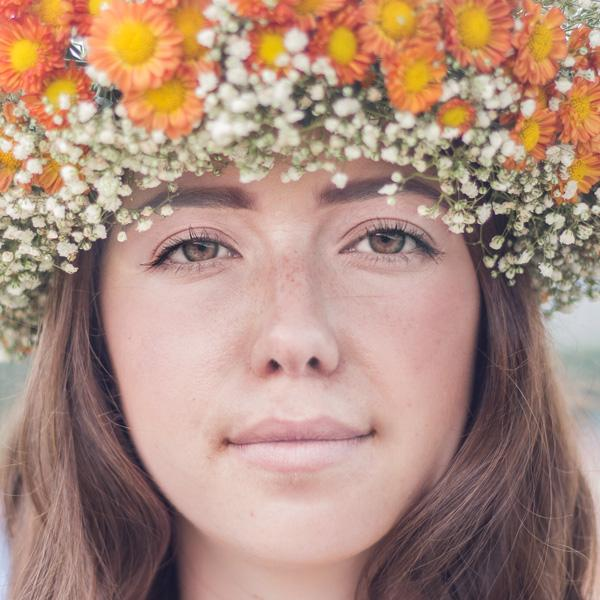Eyes: (321, 207, 452, 277), (139, 218, 255, 289)
